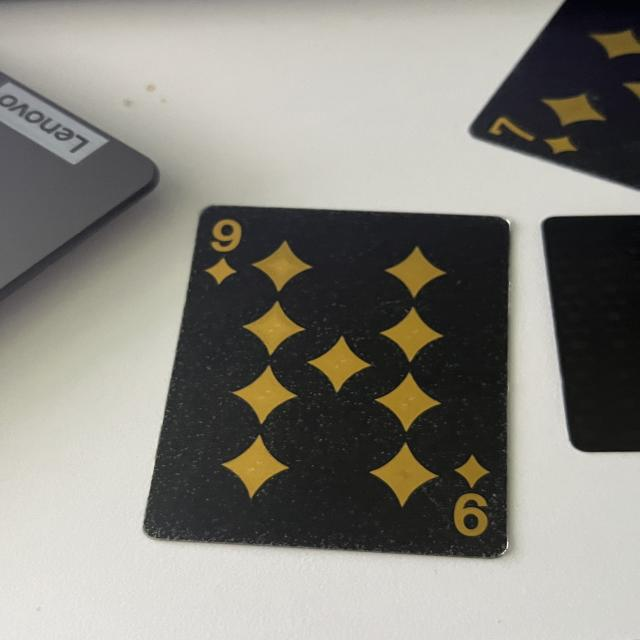7D: (486, 112, 594, 164)
9D: (448, 452, 502, 544), (199, 218, 250, 289)
